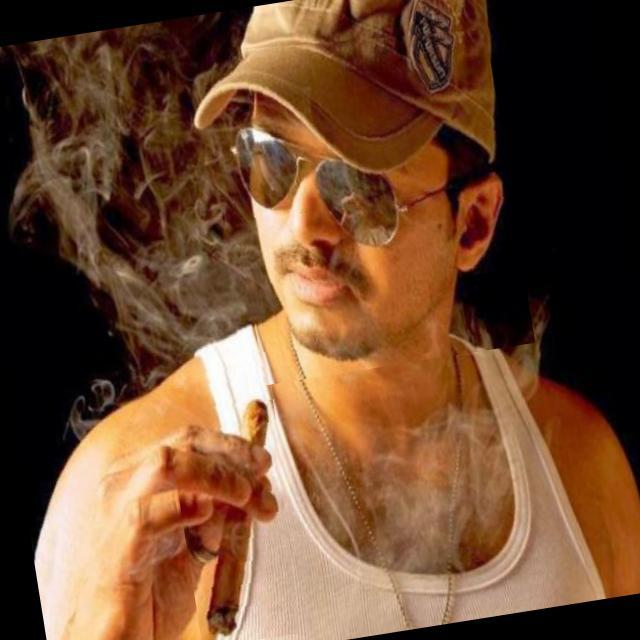cigarette: (161, 361, 312, 640)
